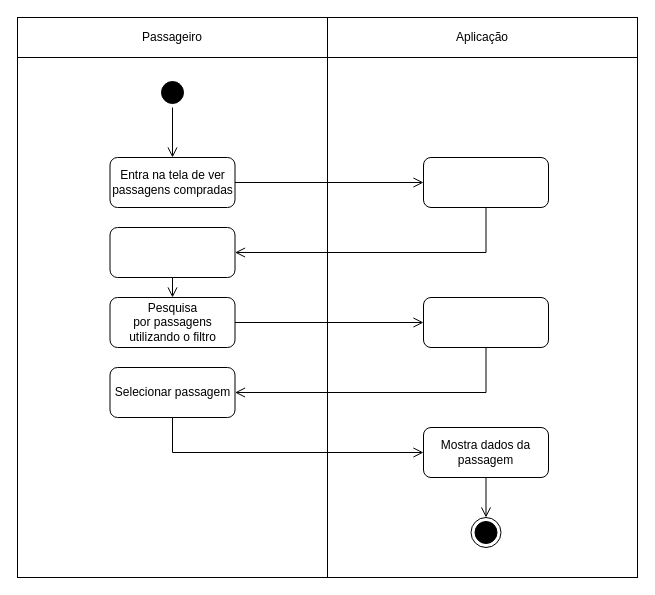
The diagram is 655 pixels wide and 595 high, and some of its shapes have lost their labels. The shapes that lost their labels are listed below. From the top down, each one's centre as x and y in pixels, then its label:
At [485,182]: "Mostra passagens compradas pelo passageiro".
At [172,252]: "Escolhe filtros".
At [485,322]: "Mostra passagens com base no filtro selecionado".
